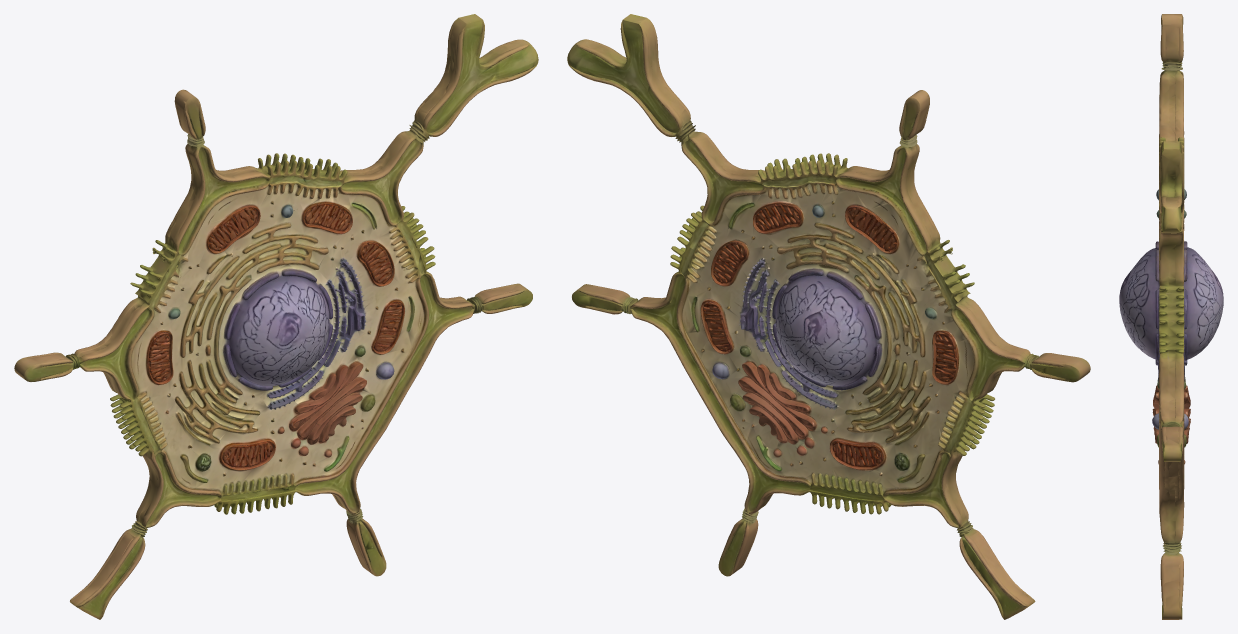
Rendered from hepatocyte.glb.
The picture shows the model from 3 angles, left to right: view 1: azimuth 30°, elevation 25°; view 2: azimuth 150°, elevation 25°; view 3: azimuth 270°, elevation 25°; orthographic projection.
Parts seen in each view (by area): view 1: model; view 2: model; view 3: model.
Part boxes in pixels (left/top/right/bottom): model: left=14, top=14, right=538, bottom=619; model: left=567, top=14, right=1090, bottom=619; model: left=1119, top=14, right=1223, bottom=619.
Size of the model in its own units: 1.9 by 1.86 by 0.3391.
Materials: 1 (1 with a texture image).
